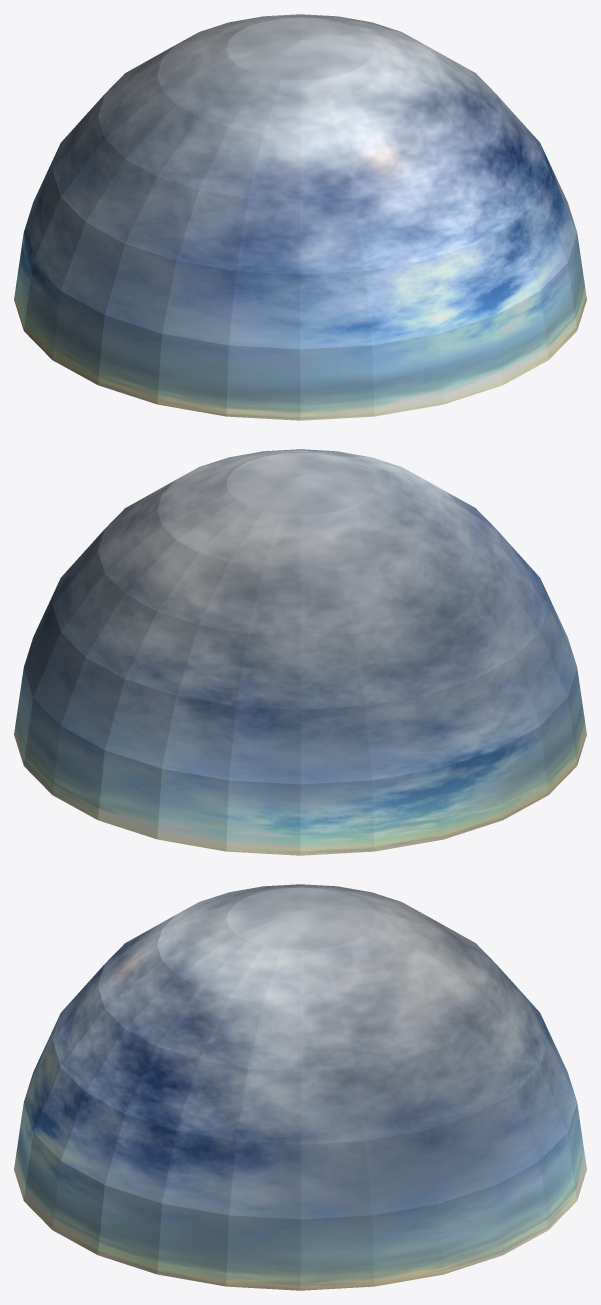
Rendered from skydome.glb.
3 renders of one model, top to bottom at view 1: azimuth 30°, elevation 25°; view 2: azimuth 150°, elevation 25°; view 3: azimuth 270°, elevation 25°, orthographic.
Parts seen in each view (by area): view 1: 3DGeom-1; view 2: 3DGeom-1; view 3: 3DGeom-1.
Part boxes in pixels (x1,y1,x2,y2): 3DGeom-1: [14, 14, 586, 420]; 3DGeom-1: [14, 449, 586, 855]; 3DGeom-1: [14, 884, 586, 1290].
Bounding box in the file's own units: 1010 × 505 × 1010.
Materials: 1 (1 with a texture image).
